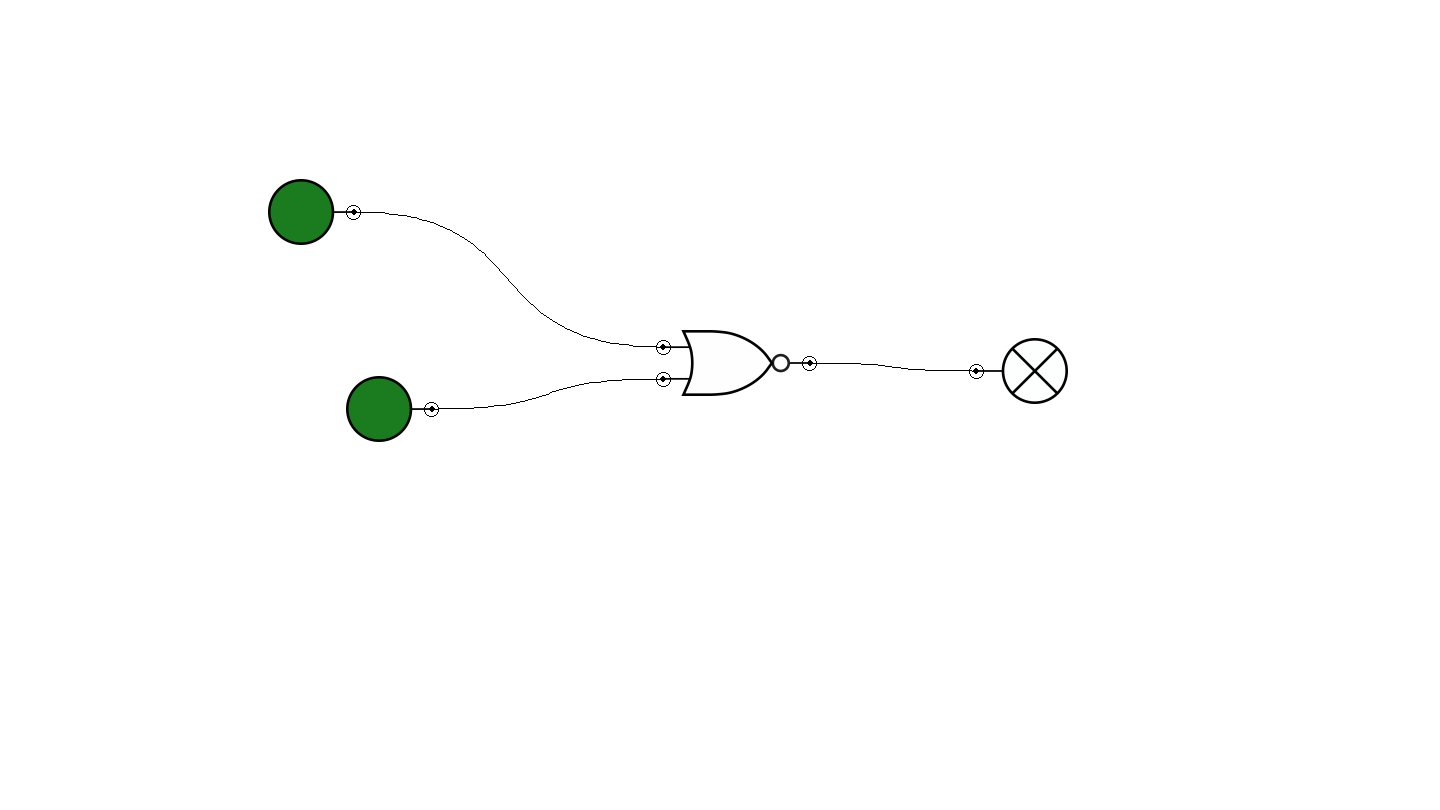bulb: (969, 338, 1068, 404)
nor: (656, 330, 817, 396)
switch_True: (346, 376, 439, 442), (268, 179, 361, 245)
